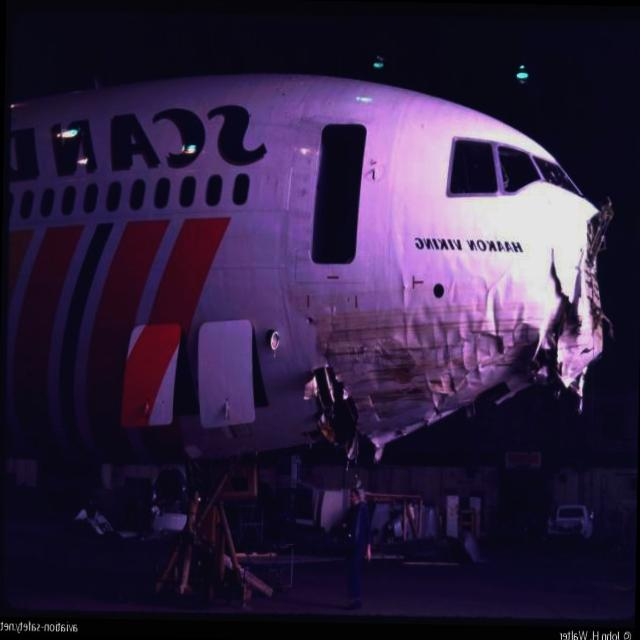crack: (316, 301, 339, 374), (546, 245, 570, 311)
dent: (408, 300, 451, 348), (482, 286, 504, 338), (509, 302, 526, 339)
